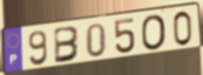0: (84, 23, 108, 59), (172, 9, 194, 48)
5: (113, 16, 137, 55)
9: (27, 30, 49, 67)
B: (53, 25, 82, 66)
O: (140, 13, 168, 52)
